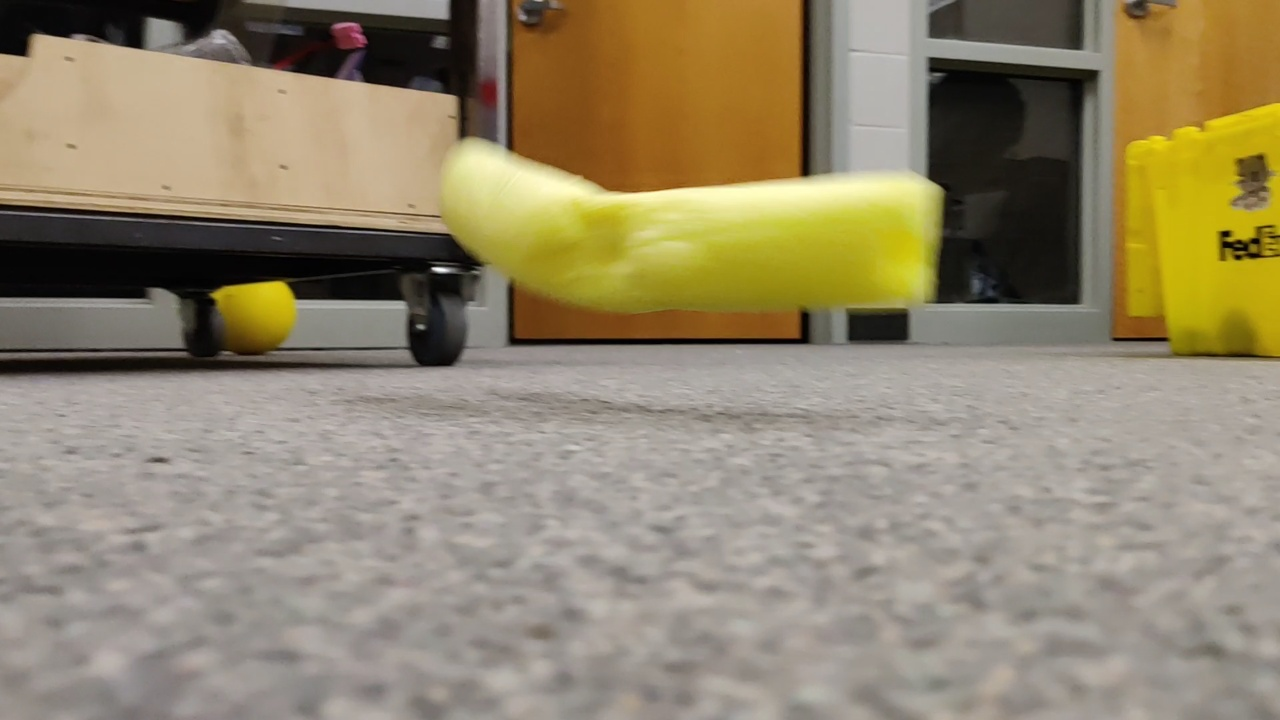Ball: (172, 279, 301, 350)
